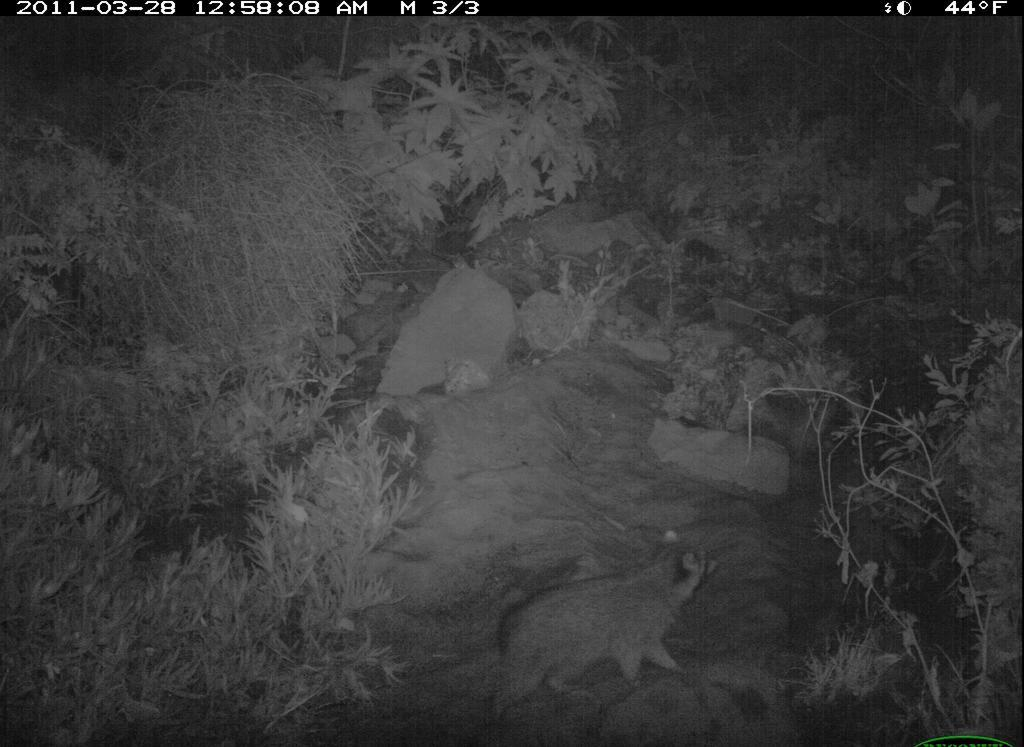raccoon: (469, 524, 734, 733)
